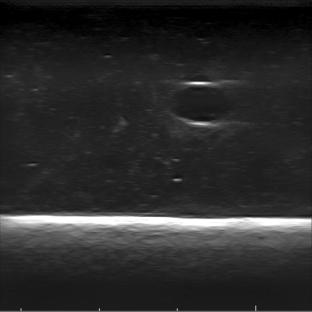vessel: (165, 80, 235, 129)
